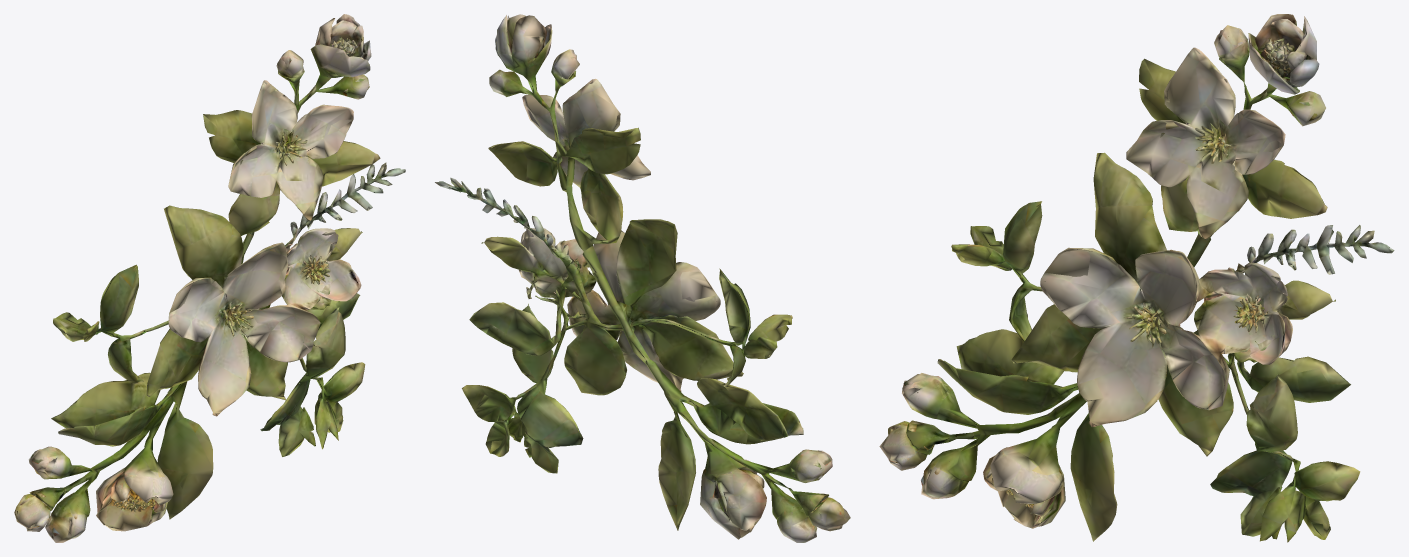
3 views of the same model, side by side, from view 1: azimuth 30°, elevation 25°; view 2: azimuth 150°, elevation 25°; view 3: azimuth 330°, elevation 25° (orthographic). The views are drawn at different scales.
Size of the model in its own units: 1.7 by 1.9 by 0.2836.
Materials: 1 (1 with a texture image).
